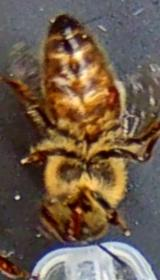varroa_mite: (99, 77, 128, 119)
